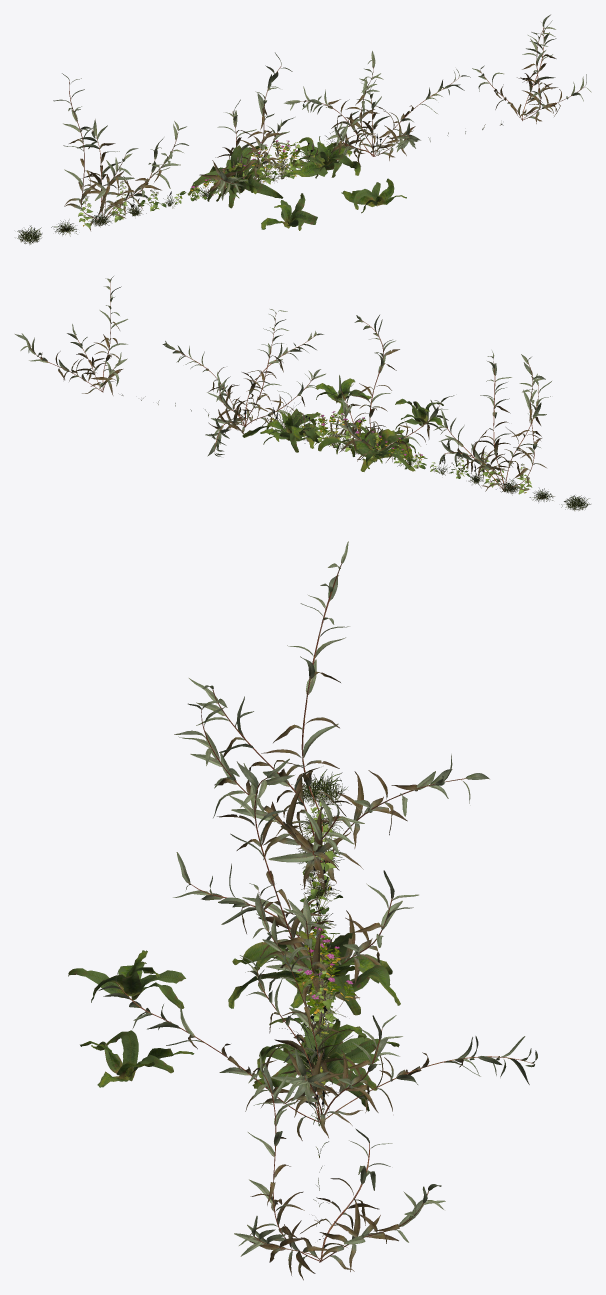
The model's file is plants_d.glb.
The picture shows the model from 3 angles, top to bottom: view 1: azimuth 30°, elevation 25°; view 2: azimuth 150°, elevation 25°; view 3: azimuth 270°, elevation 25°; orthographic projection. The views are drawn at different scales.
Parts seen in each view (by area): view 1: shrub_02.001, fern_02.001, grass_medium_01.001, shrub_01.001, periwinkle_plant.001; view 2: shrub_02.001, fern_02.001, grass_medium_01.001, shrub_01.001, periwinkle_plant.001; view 3: shrub_02.001, fern_02.001, grass_medium_01.001, shrub_01.001, periwinkle_plant.001.
Boxes of the visible parts, left/top/right/bottom form: shrub_02.001: left=53, top=14, right=591, bottom=230; fern_02.001: left=188, top=136, right=406, bottom=230; grass_medium_01.001: left=17, top=123, right=503, bottom=244; shrub_01.001: left=78, top=142, right=301, bottom=228; periwinkle_plant.001: left=190, top=140, right=299, bottom=197; shrub_02.001: left=15, top=276, right=551, bottom=491; fern_02.001: left=242, top=378, right=446, bottom=471; grass_medium_01.001: left=121, top=394, right=590, bottom=510; shrub_01.001: left=312, top=413, right=532, bottom=494; periwinkle_plant.001: left=319, top=411, right=424, bottom=465; shrub_02.001: left=96, top=541, right=537, bottom=1280; fern_02.001: left=68, top=930, right=400, bottom=1111; grass_medium_01.001: left=291, top=769, right=347, bottom=1239; shrub_01.001: left=302, top=789, right=337, bottom=1033; periwinkle_plant.001: left=295, top=922, right=355, bottom=1025.
Size of the model in its own units: 6.51 by 1.71 by 2.43.
Materials: 10 (10 with a texture image).
